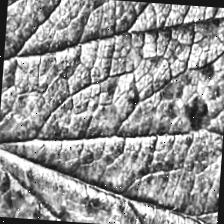Angular Leafspot: (0, 0, 224, 149)
